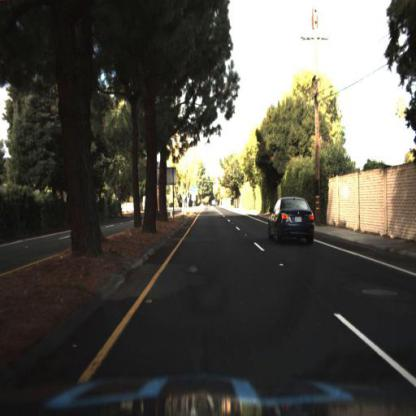car: (268, 196, 319, 247)
